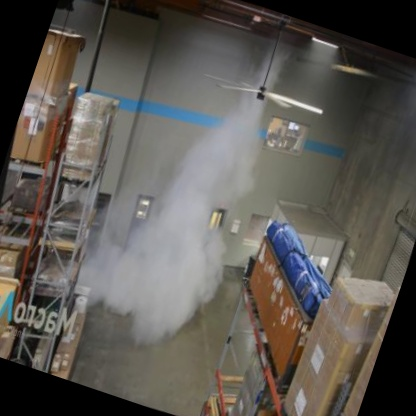smoke: (90, 70, 279, 358)
